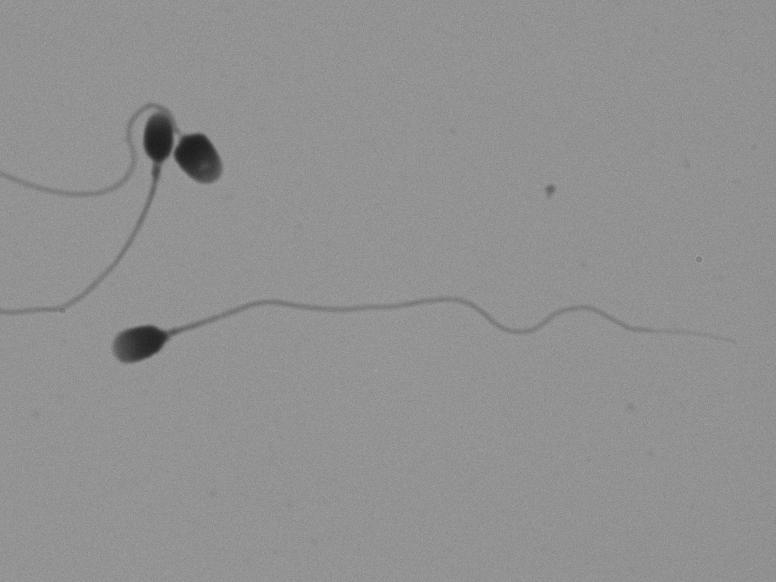Abnormal: (171, 119, 240, 242)
Normal: (96, 280, 748, 439), (61, 86, 173, 265)
